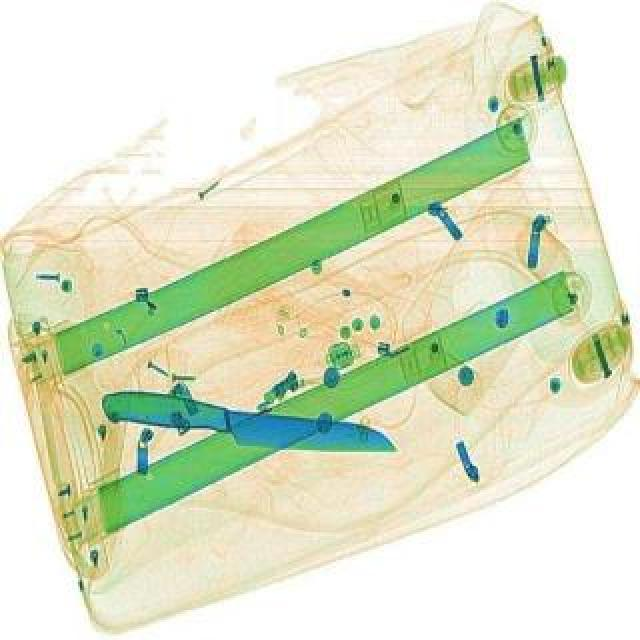knife: (96, 390, 400, 464)
